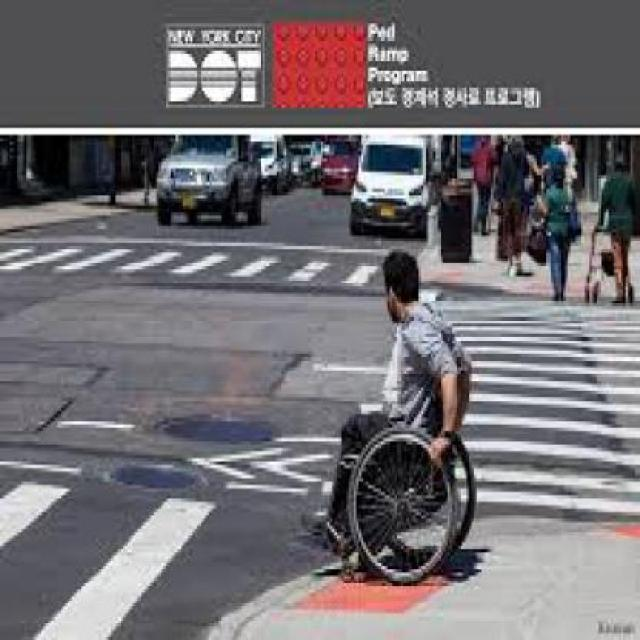Person: (306, 253, 477, 581), (585, 148, 637, 308), (493, 137, 535, 278), (542, 162, 578, 302)
